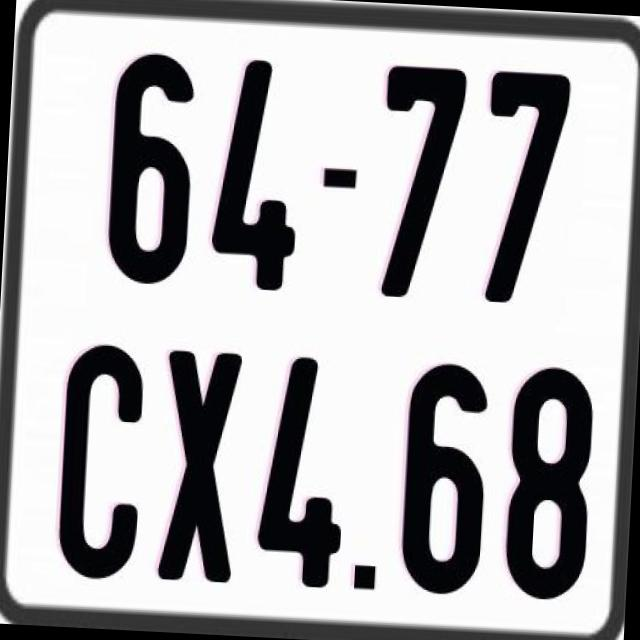4: (208, 58, 304, 301), (254, 353, 350, 595)
6: (101, 48, 198, 291), (398, 362, 492, 598)
7: (476, 66, 572, 301), (376, 63, 468, 304)
8: (500, 360, 592, 604)
C: (52, 342, 143, 589)
X: (154, 350, 246, 586)
